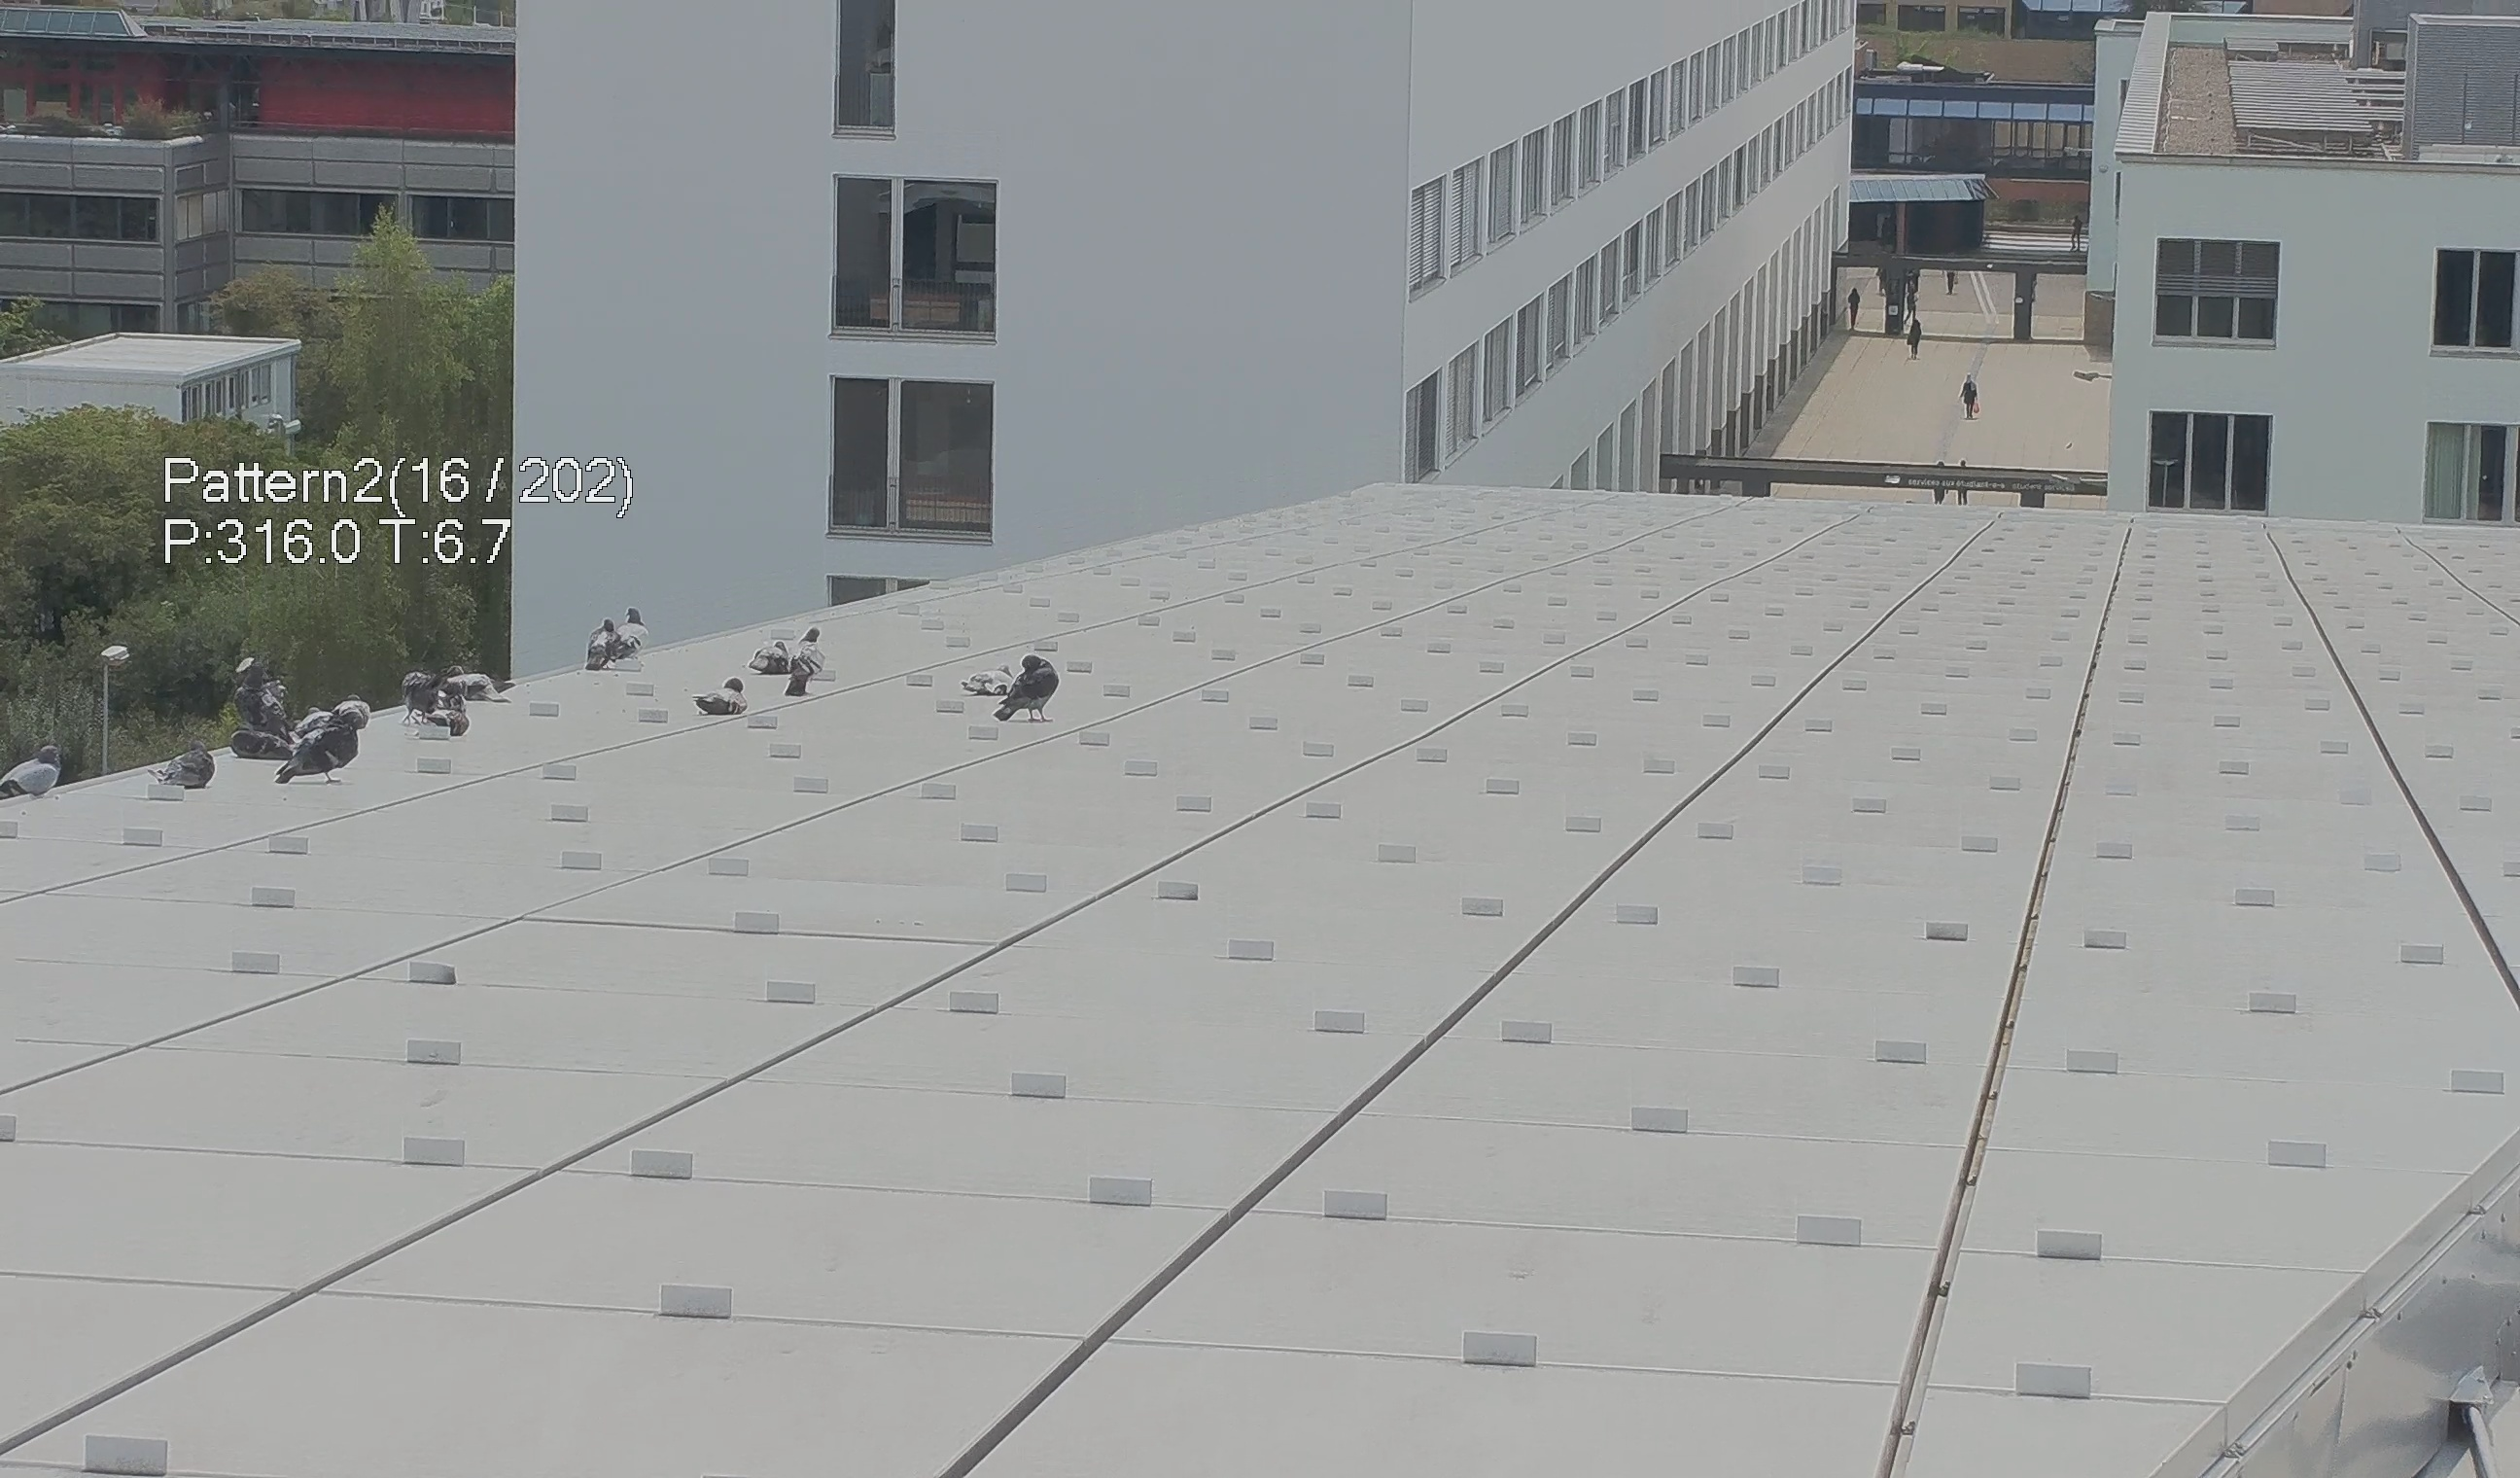Pigeon: (278, 714, 369, 790), (983, 644, 1066, 725), (786, 625, 830, 702), (155, 743, 211, 802), (2, 746, 63, 797), (412, 688, 466, 741), (955, 658, 1025, 697), (693, 676, 749, 723), (607, 602, 649, 662), (579, 616, 612, 679), (747, 639, 786, 672)
